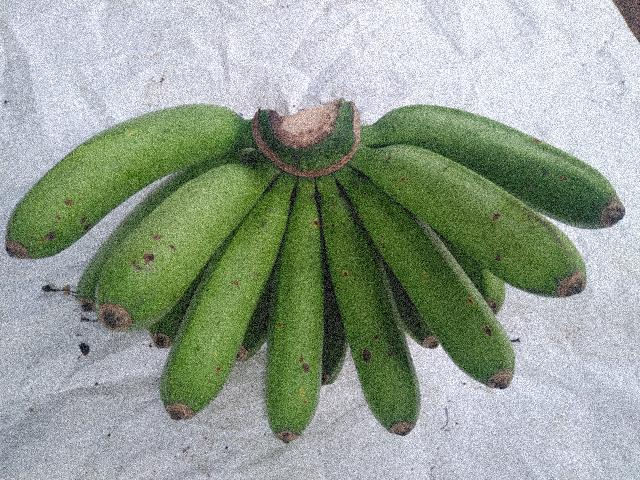unripe: (0, 92, 276, 273), (344, 131, 581, 308), (354, 77, 621, 226), (240, 182, 340, 469), (97, 156, 248, 335), (316, 197, 415, 439)
